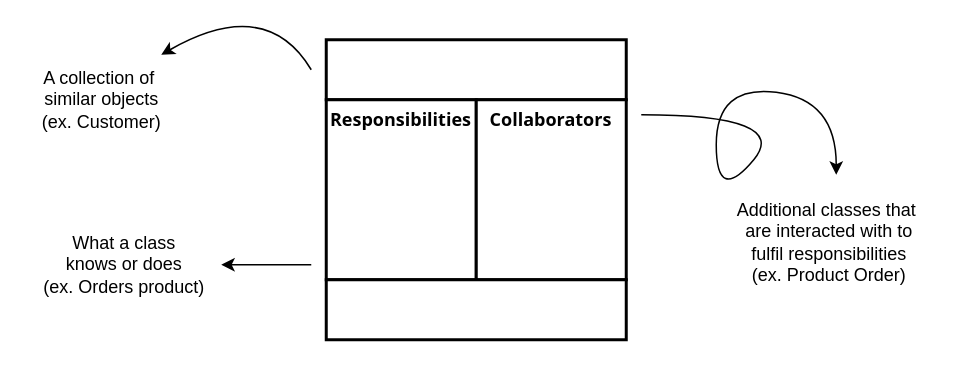
Some shapes in this 966 by 368 pixel diagram are drawn without their labels. Each missing label, with the box of its shape:
Candidate implementation technologies: (324, 278, 627, 340)
Component: (324, 38, 627, 100)
